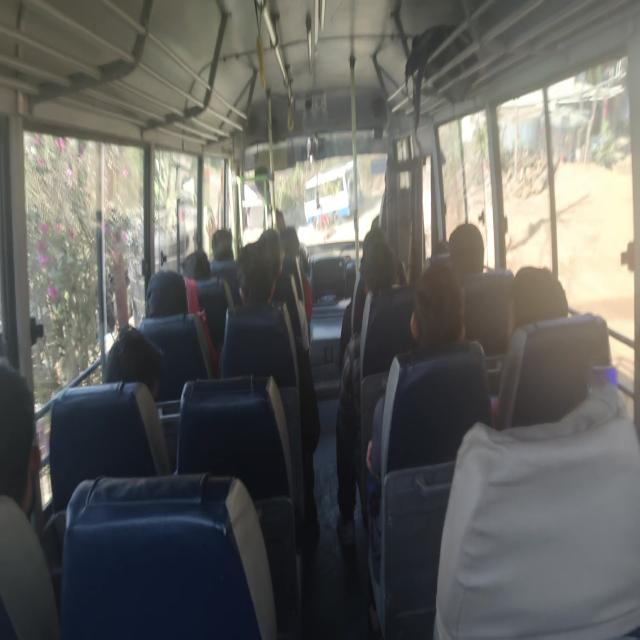person: (0, 359, 54, 542), (409, 268, 488, 374), (94, 336, 160, 444), (516, 253, 578, 329), (235, 246, 282, 316), (149, 269, 193, 342), (442, 218, 497, 276), (360, 253, 421, 302), (257, 224, 298, 286), (205, 227, 257, 273), (180, 247, 212, 293), (281, 215, 307, 256), (366, 227, 397, 257), (427, 233, 461, 260)
